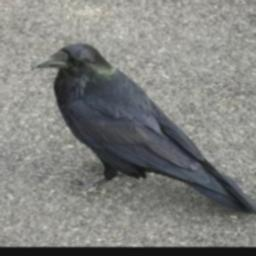Crow: (32, 43, 256, 217)
